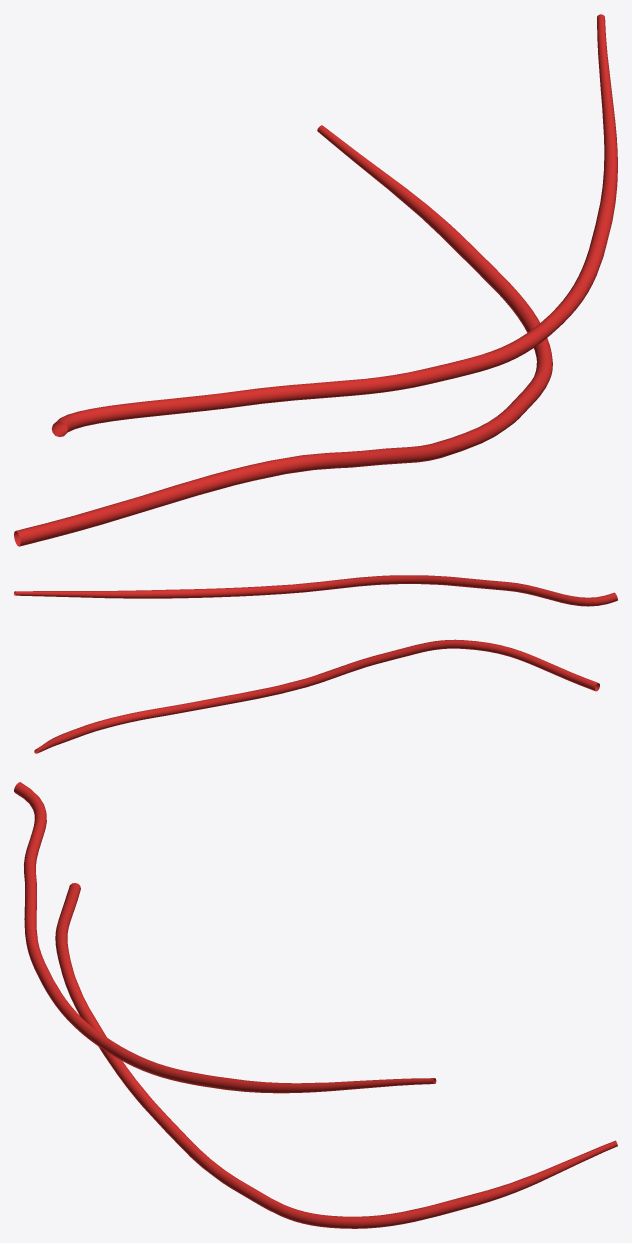
The model's file is circulatorio-lateral-pontine-branches-of-basilar-artery-l.glb.
3 views of the same model, one above another, from view 1: azimuth 30°, elevation 25°; view 2: azimuth 150°, elevation 25°; view 3: azimuth 270°, elevation 25° (orthographic). The views are drawn at different scales.
Parts seen in each view (by area): view 1: Lateral pontine branches of basilar artery.l; view 2: Lateral pontine branches of basilar artery.l; view 3: Lateral pontine branches of basilar artery.l.
Boxes of the visible parts, x1=… form: Lateral pontine branches of basilar artery.l: x1=14, y1=14, x2=617, y2=546; Lateral pontine branches of basilar artery.l: x1=14, y1=575, x2=617, y2=753; Lateral pontine branches of basilar artery.l: x1=14, y1=782, x2=617, y2=1228.
Bounding box in the file's own units: 0.0236 × 0.00716 × 0.0198.
